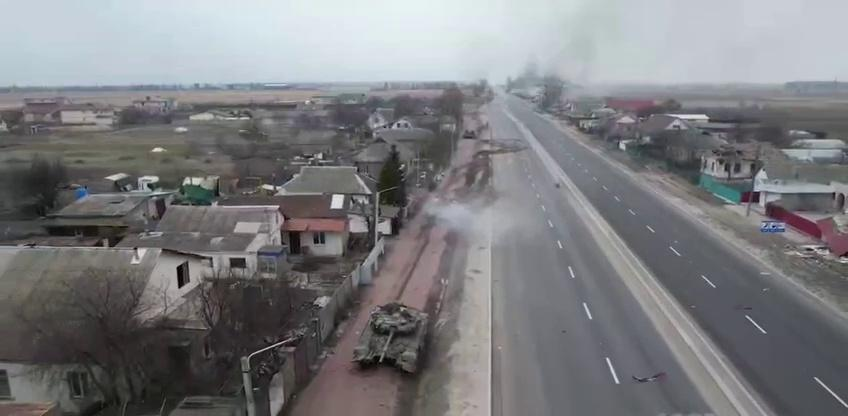tank: (350, 302, 430, 378)
